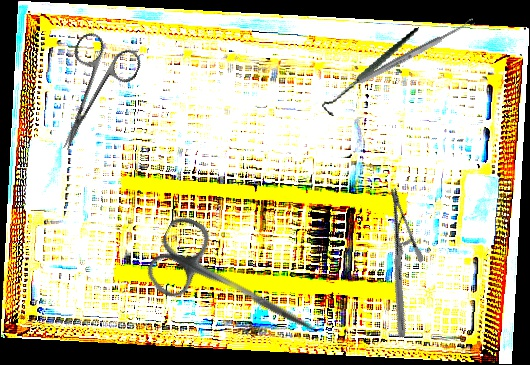Hook Surgical: (309, 27, 435, 118)
Iris Scissors: (140, 211, 333, 362), (33, 27, 145, 164)
Needle Holder: (330, 186, 466, 339)
Surgical Spoon: (358, 17, 476, 86)
